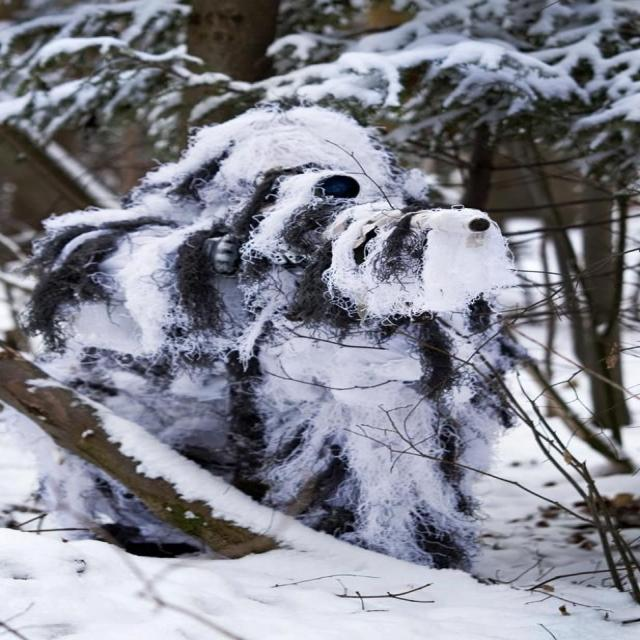Camouflage: (23, 96, 524, 576)
